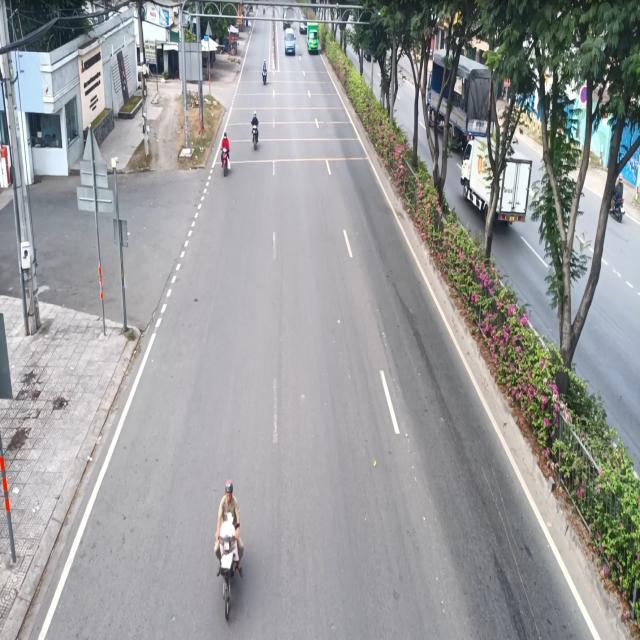motor: (213, 468, 245, 624), (216, 128, 234, 184), (249, 103, 261, 153)
